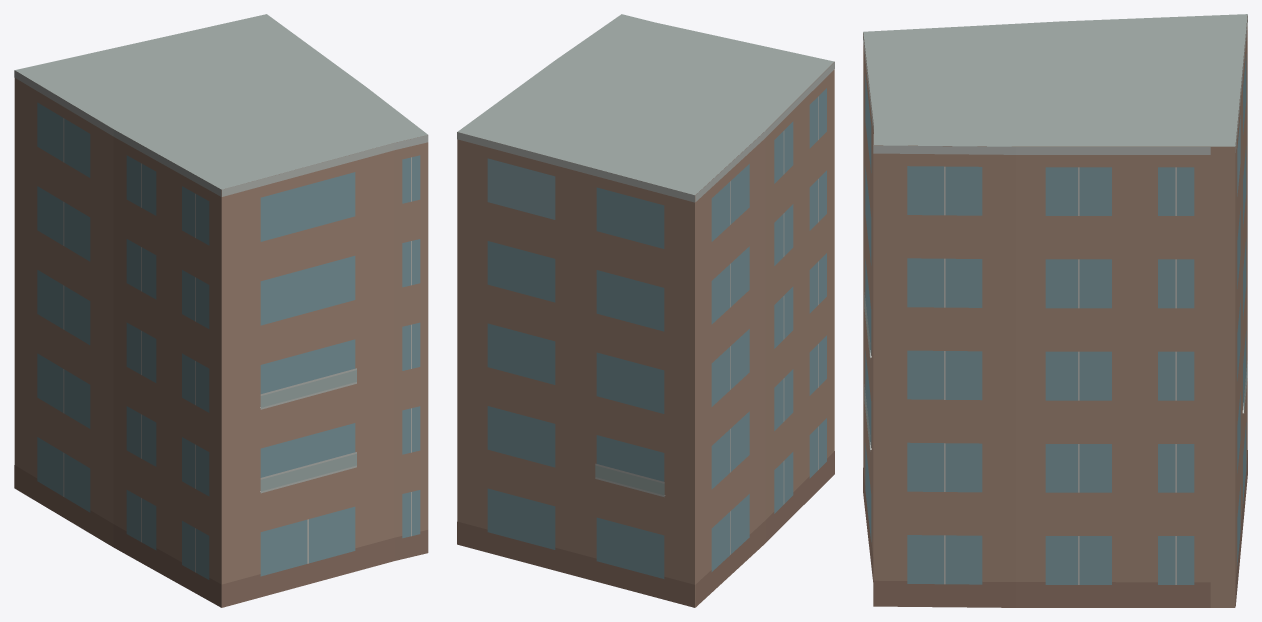
Rendered from survey-upis-32773402.glb.
3 renders of one model, left to right at view 1: azimuth 30°, elevation 25°; view 2: azimuth 150°, elevation 25°; view 3: azimuth 270°, elevation 25°, orthographic. The views are drawn at different scales.
Parts seen in each view (by area): view 1: survey-upis-32773402.tmp; view 2: survey-upis-32773402.tmp; view 3: survey-upis-32773402.tmp.
Boxes of the visible parts, x1,y1,x2,y2 form: survey-upis-32773402.tmp: [14, 14, 428, 607]; survey-upis-32773402.tmp: [457, 14, 834, 607]; survey-upis-32773402.tmp: [863, 14, 1247, 607].
Bounding box in the file's own units: 8.47 × 13.7 × 10.36.
